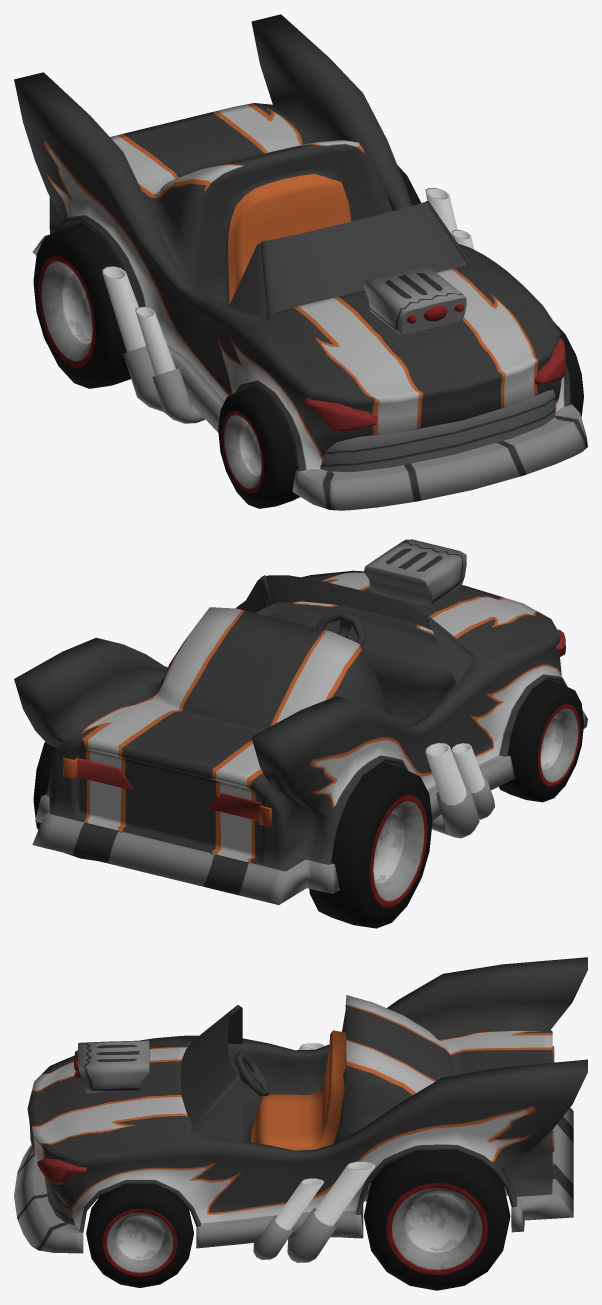
File: Mobil Banas (1).fbx
3 views of the same model, one above another, from view 1: azimuth 30°, elevation 25°; view 2: azimuth 150°, elevation 25°; view 3: azimuth 270°, elevation 25° (orthographic). The views are drawn at different scales.
Visible parts, largest first — view 1: BodyLow, BanBKiriLow, GlassLow, mulutLow, Knalpot.Low, AccDepanLow, LampuDepanLow, FrameLow; view 2: BodyLow, BanBKiriLow, GlassLow, AccDepanLow, Knalpot.Low, LampuBelakangLow, SteerLow; view 3: BodyLow, BanBKiriLow, GlassLow, Knalpot.Low, AccDepanLow, SteerLow, LampuDepanLow, mulutLow, FrameLow.
Boxes of the visible parts, x1,y1,x2,y2 form: BodyLow: (14,14,587,510); BanBKiriLow: (33,165,583,508); GlassLow: (229,202,469,316); mulutLow: (320,389,555,471); Knalpot.Low: (102,188,473,423); AccDepanLow: (363,265,466,336); LampuDepanLow: (304,337,565,432); FrameLow: (260,201,474,319); BodyLow: (14,570,587,904); BanBKiriLow: (33,680,583,928); GlassLow: (240,575,471,684); AccDepanLow: (364,539,466,605); Knalpot.Low: (425,742,495,838); LampuBelakangLow: (63,757,271,826); SteerLow: (315,611,365,648); BodyLow: (14,957,587,1253); BanBKiriLow: (86,1151,510,1290); GlassLow: (180,1006,242,1142); Knalpot.Low: (253,1043,375,1262); AccDepanLow: (74,1040,149,1093); SteerLow: (235,1052,269,1096); LampuDepanLow: (37,1157,86,1184); mulutLow: (44,1177,74,1224); FrameLow: (190,1005,240,1133).
Size of the model in its own units: 418 by 275 by 685.
1 material, 1 textured.
